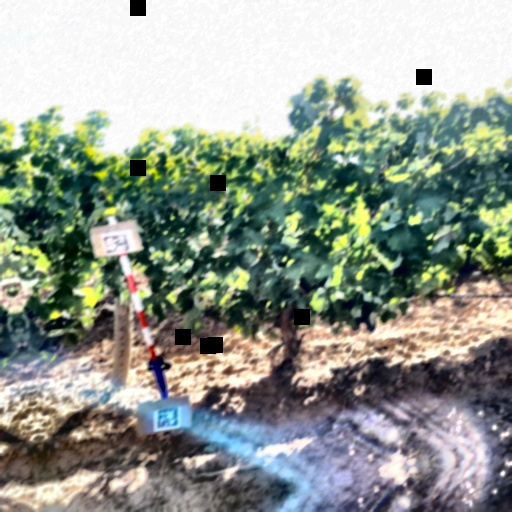QR: (153, 407, 182, 430), (103, 232, 130, 255)
